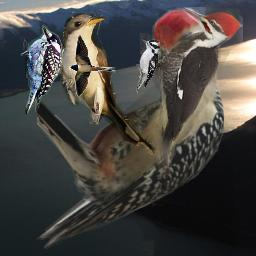Cuckoo: (57, 13, 158, 158)
Swallow: (69, 34, 116, 97)
Woodpecker: (37, 8, 224, 255), (140, 7, 243, 175), (11, 22, 68, 122), (136, 37, 162, 94)
